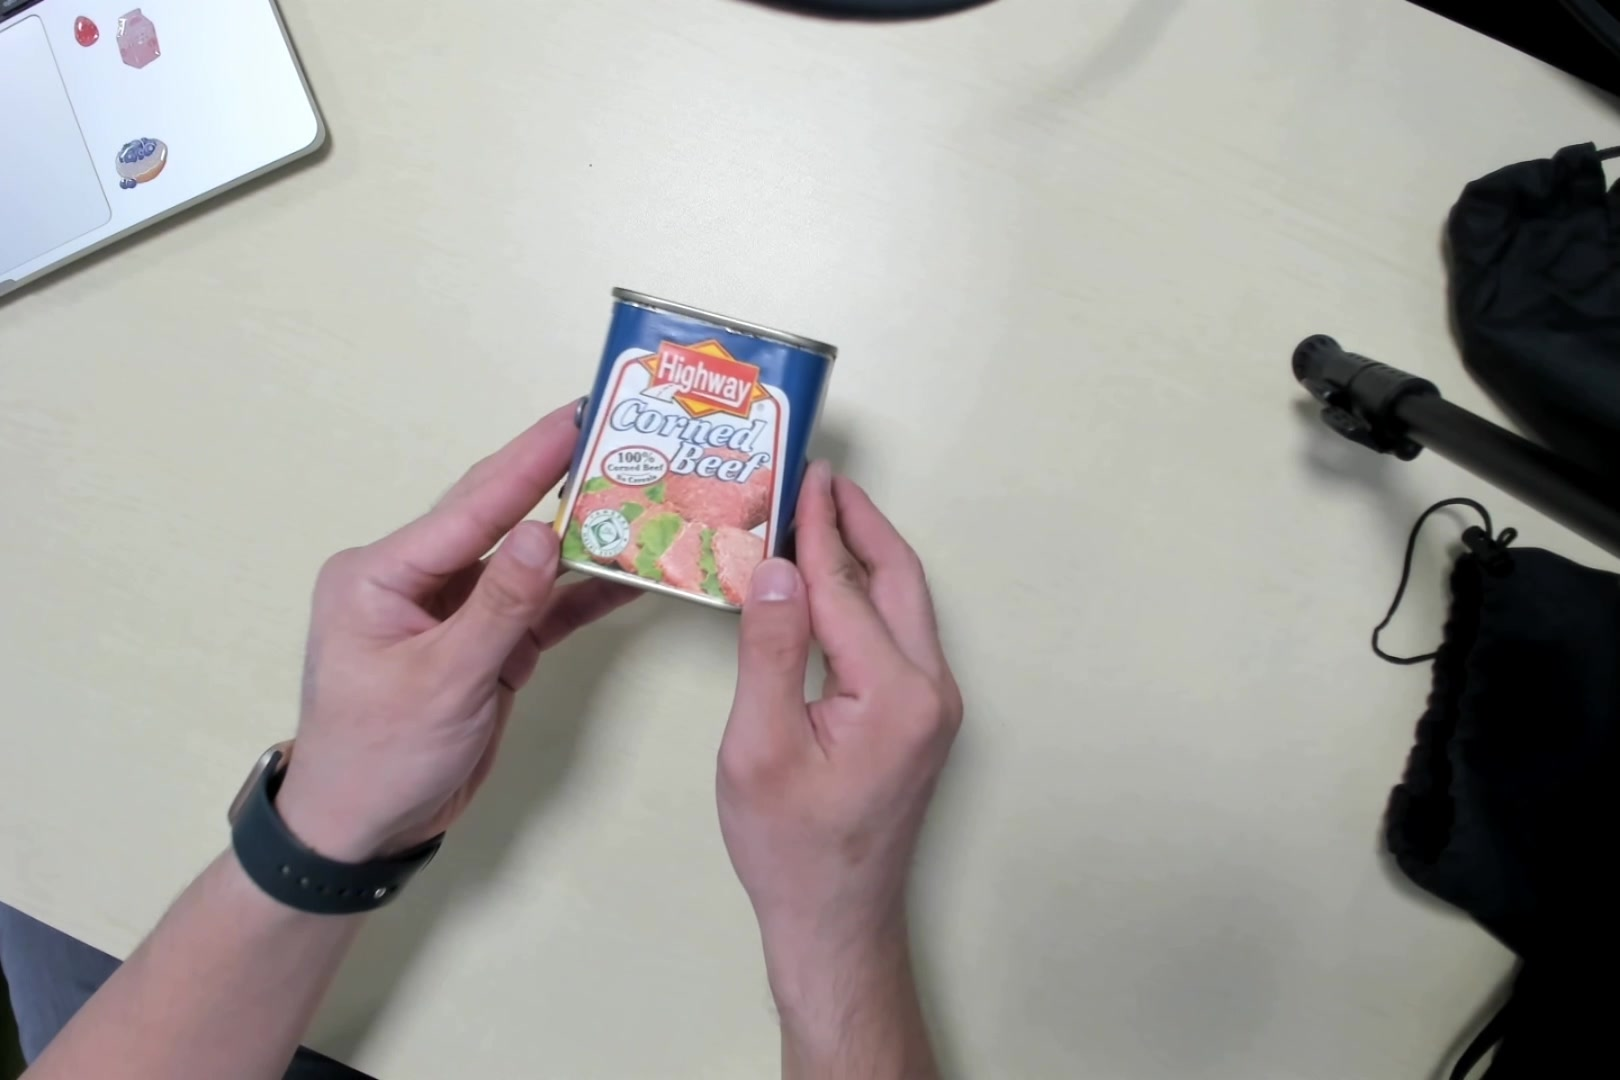CannedBeefOtherMeats_300-399g_Halal_NonHealthy: (551, 284, 803, 601)
